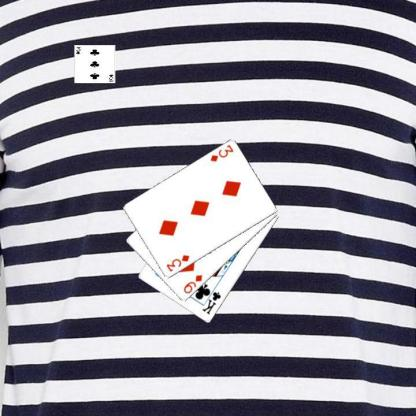3D: (164, 252, 190, 274), (208, 142, 235, 163)
9D: (181, 272, 203, 295)
KC: (199, 284, 222, 316)
